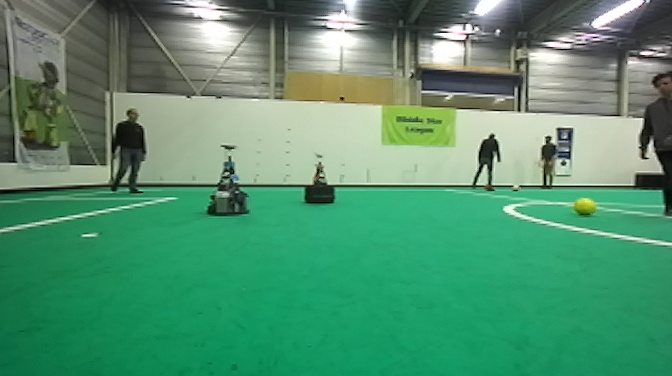ball: (573, 197, 598, 220), (510, 182, 521, 192)
human: (635, 69, 672, 218), (108, 107, 147, 194), (467, 131, 504, 191), (538, 131, 560, 189)
robot: (205, 143, 252, 217), (305, 154, 337, 205)
